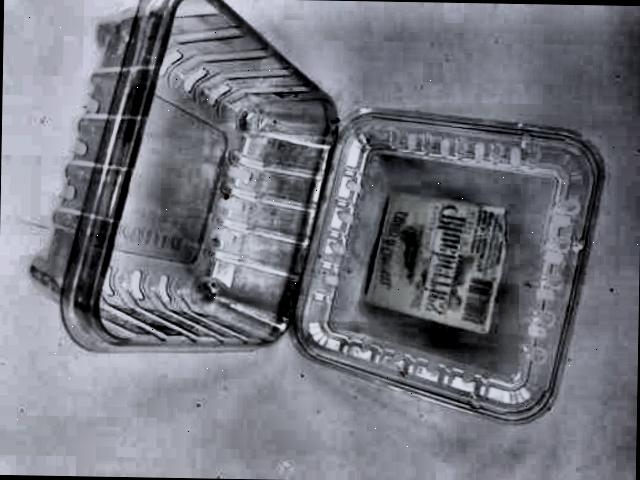Plastic: (50, 0, 603, 438)
